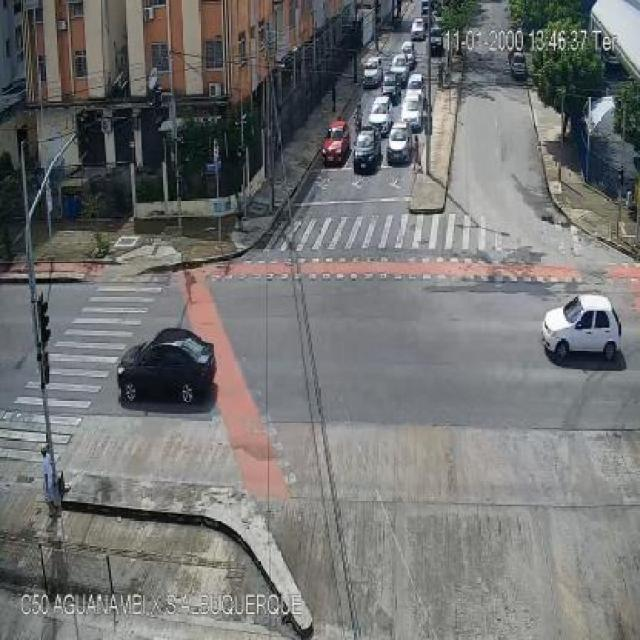Car: (114, 322, 220, 410), (538, 290, 626, 372), (352, 128, 382, 174), (320, 120, 351, 164), (387, 122, 412, 165), (368, 96, 395, 134), (401, 91, 425, 132), (379, 72, 403, 106), (363, 54, 382, 90), (388, 56, 408, 84), (406, 74, 424, 102), (400, 41, 416, 68), (410, 19, 426, 42)
Cycle: (351, 102, 365, 137)
